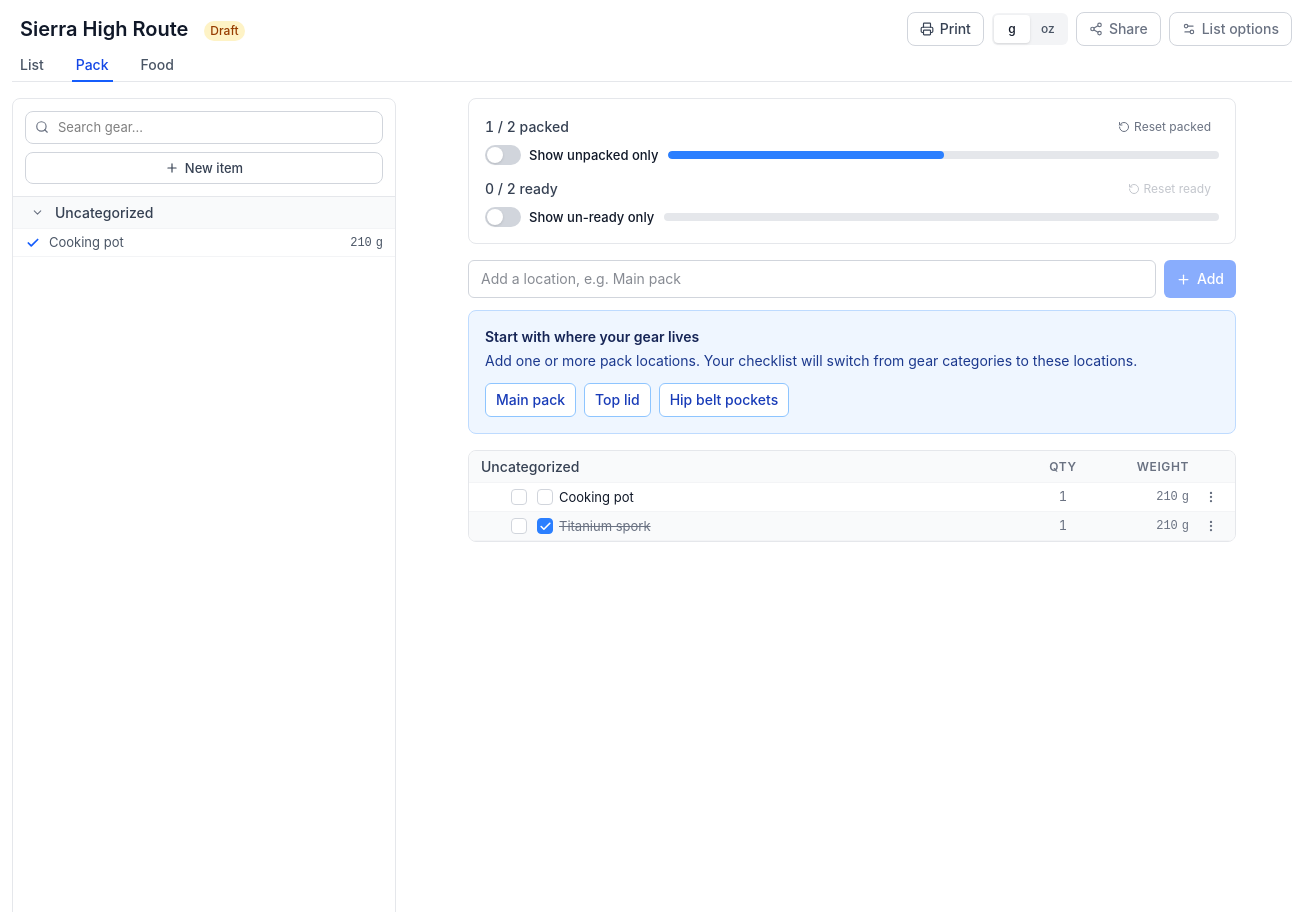
printing renders the full list regardless of the pack filters › puts the filter back after printing, so the screen is unchanged
The width and height of the screenshot is (1304, 912).
Expected: the field named "New packing location" is shown, [468,260,1156,298]
Click the switch named "Show unpacked only": (503, 155) [485,145,521,165]
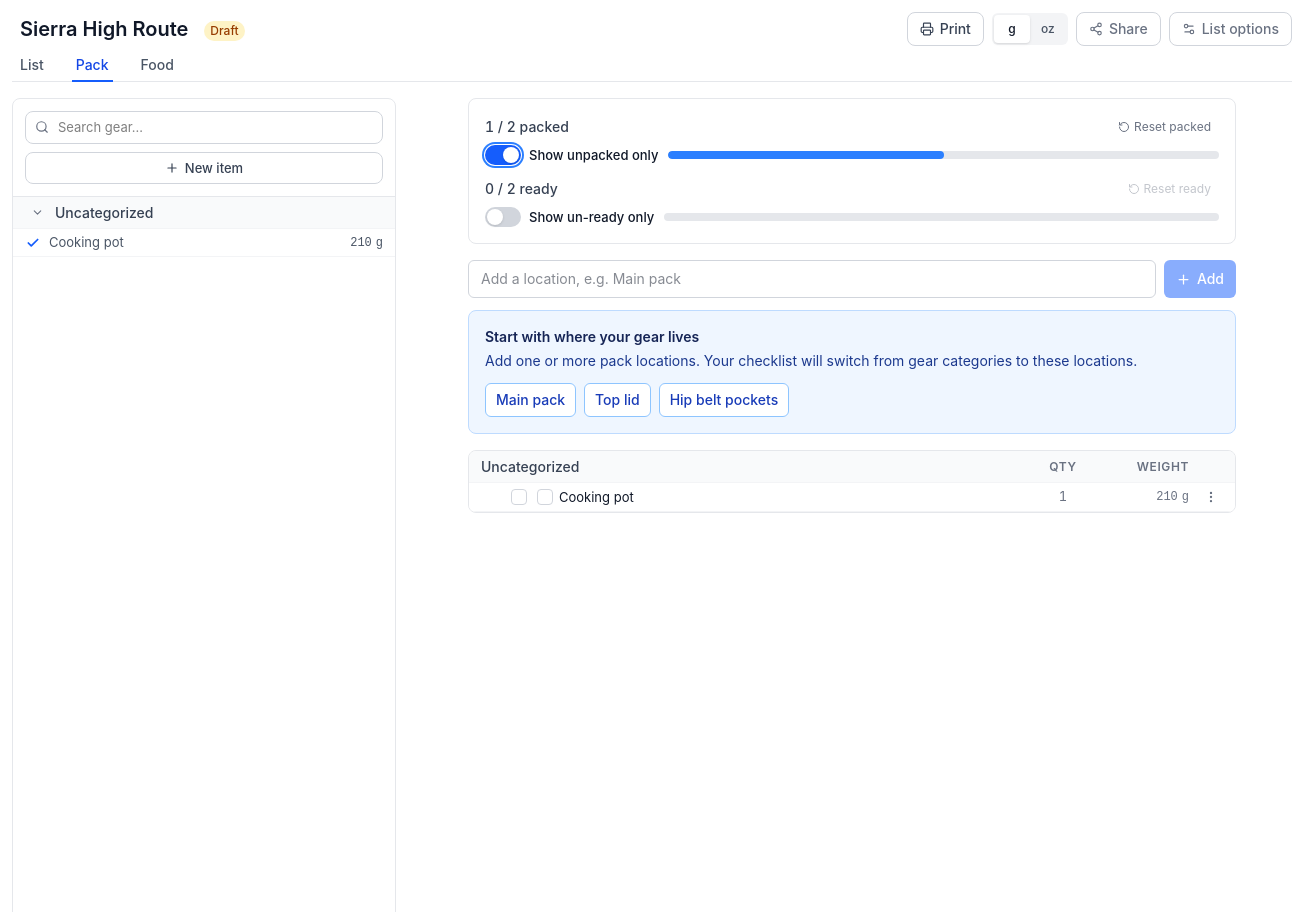
Now the switch named "Show unpacked only" is checked, box [485,145,521,165]
Now the text "Titanium spork" is gone
